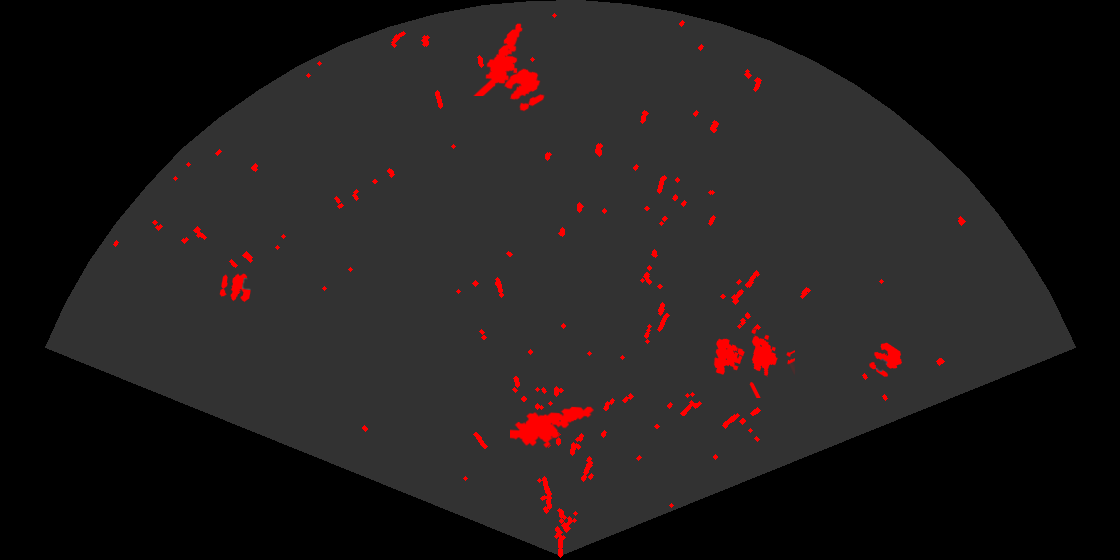ball: (502, 67, 546, 113), (868, 341, 904, 378), (218, 272, 252, 304)
cage: (712, 328, 795, 398)
frogman: (472, 22, 524, 96), (510, 405, 594, 450)
